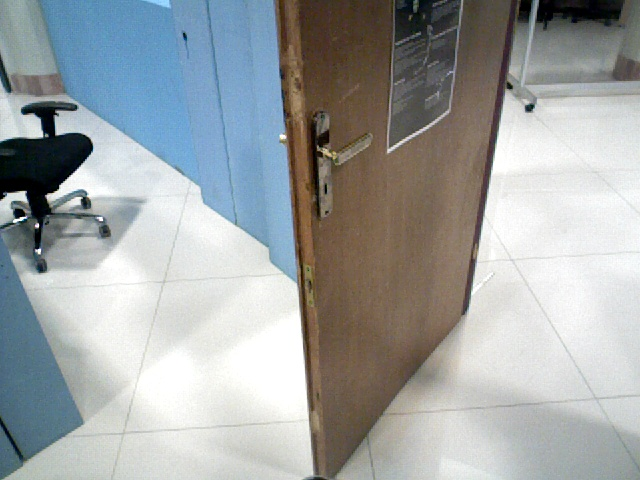door_handle: (305, 104, 370, 220)
